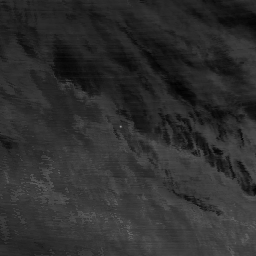Target: (117, 124, 122, 129)
